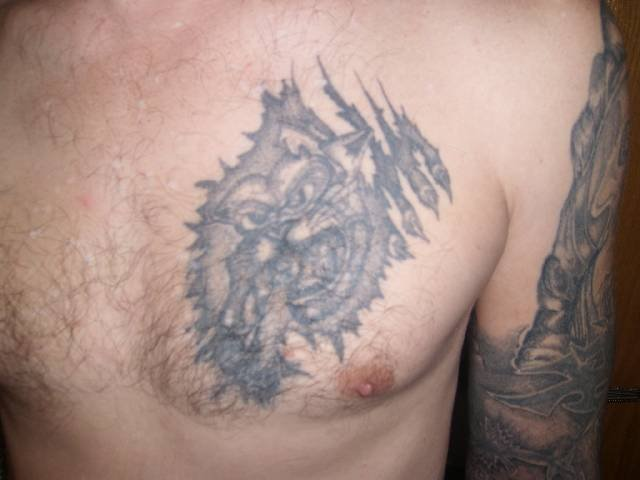tatu6_drakon: (161, 51, 484, 419)
